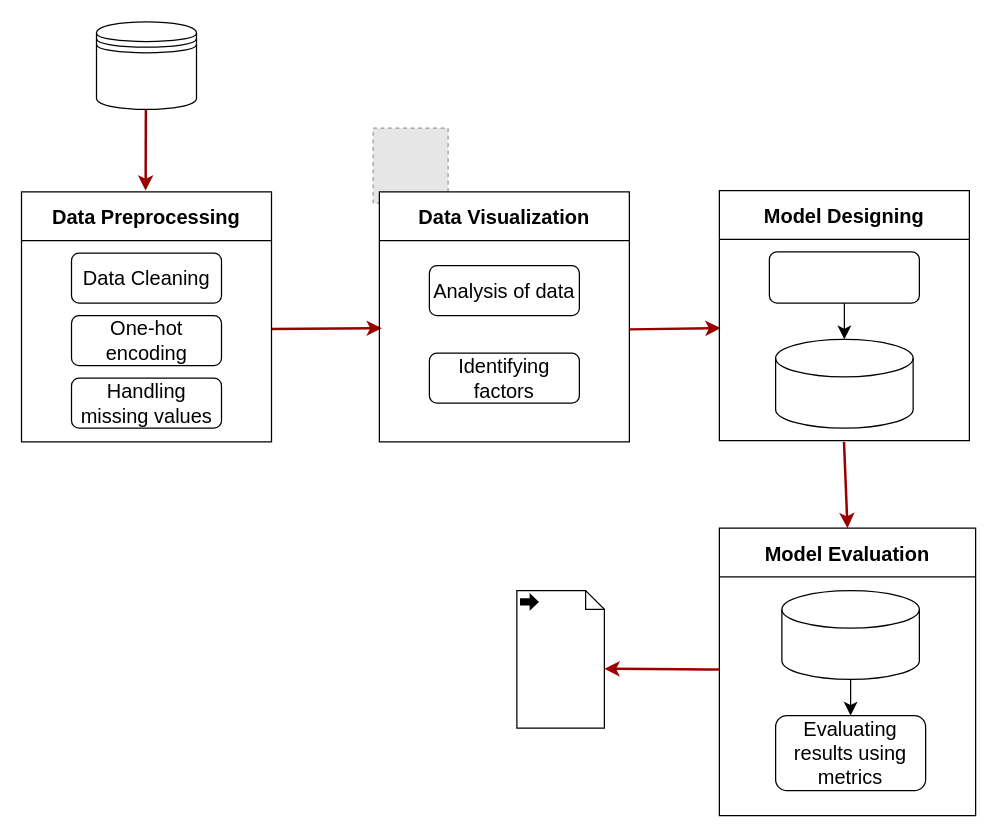
The diagram is 999 pixels wide and 838 high, and some of its shapes have lost their labels. Grey dashed boxes stand in for pictures. The shapes that lost their labels are listed below. From the top down, each one's centre as x and y in pixels, then its label:
point (145, 65): Data Collection
point (843, 277): Designing using calssifiers
point (843, 383): Training model
point (850, 634): Testing model
point (560, 658): Predicted Outcomes
